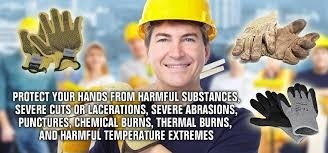helmet: (136, 1, 218, 41)
